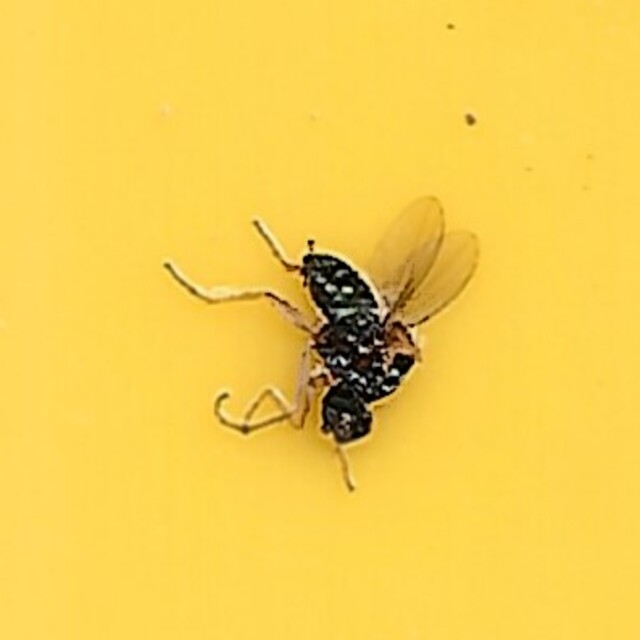Brachycera: (161, 194, 479, 446)
